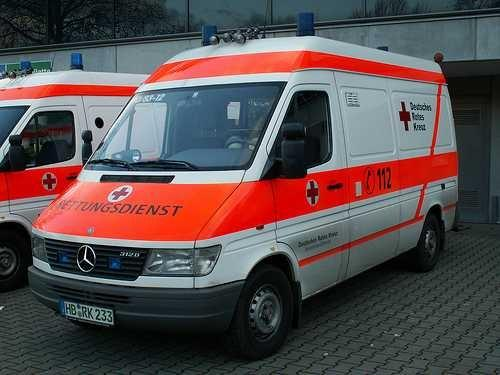car: (26, 16, 459, 360), (0, 51, 152, 291)
